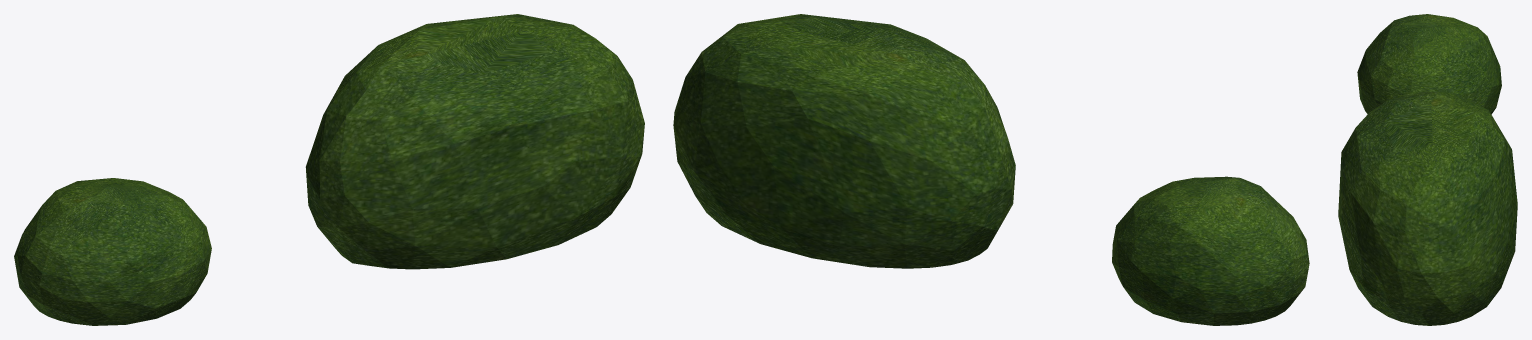
File: Foliage-Buxus-2.fbx
3 renders of one model, left to right at view 1: azimuth 30°, elevation 25°; view 2: azimuth 150°, elevation 25°; view 3: azimuth 270°, elevation 25°, orthographic. The views are drawn at different scales.
Visible parts, largest first — view 1: Sphere.001, Sphere; view 2: Sphere.001, Sphere; view 3: Sphere.001, Sphere.
Part boxes in pixels (x1,y1,x2,y2): Sphere.001: (305,14,644,269); Sphere: (14,178,211,325); Sphere.001: (673,14,1015,268); Sphere: (1112,176,1309,325); Sphere.001: (1338,91,1517,325); Sphere: (1357,14,1501,114).
Bounding box in the file's own units: 655 × 185 × 202.
